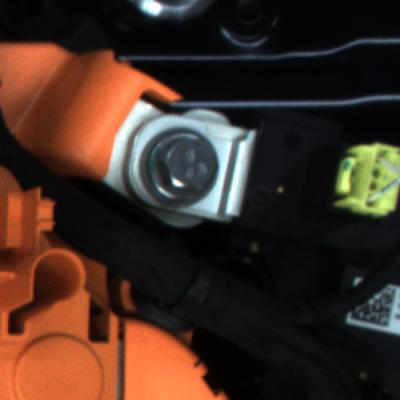nut_b: (138, 128, 237, 223)
